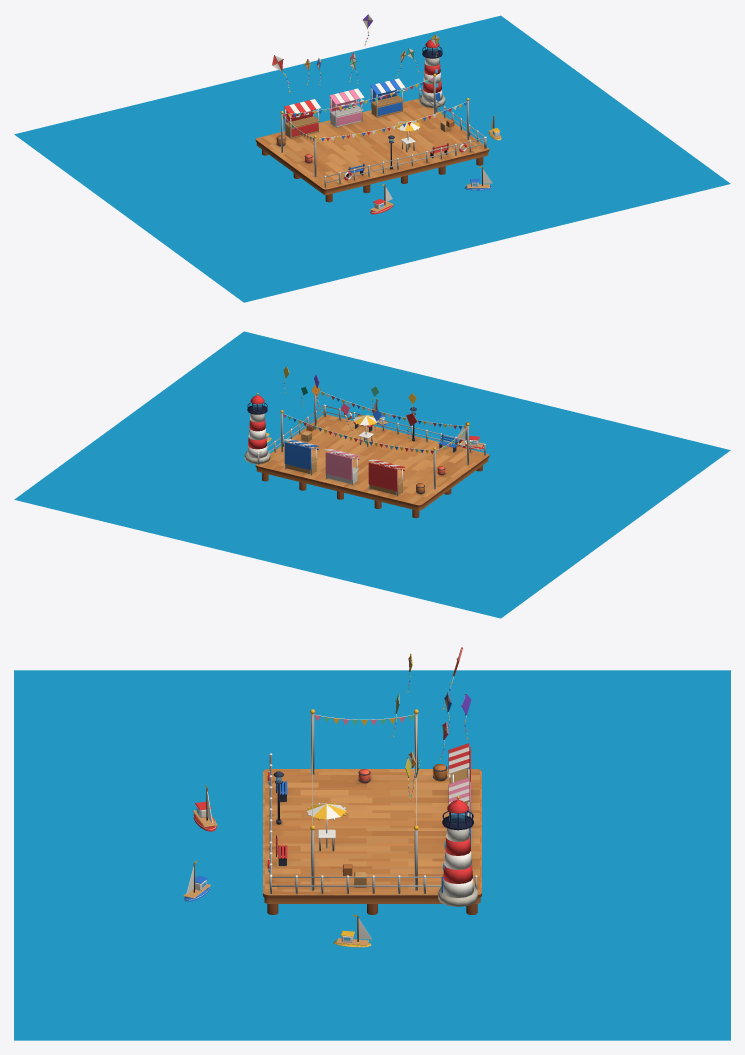
File: pier.glb
The picture shows the model from 3 angles, top to bottom: view 1: azimuth 30°, elevation 25°; view 2: azimuth 150°, elevation 25°; view 3: azimuth 270°, elevation 25°; orthographic projection. The views are drawn at different scales.
Parts seen in each view (by area): view 1: pier_Water, pier_Satin, pier_Gloss, pier_Matte; view 2: pier_Water, pier_Satin, pier_Gloss, pier_Matte; view 3: pier_Water, pier_Satin, pier_Gloss, pier_Matte.
Boxes of the visible parts, box(x1,y1,x2,y2) form: pier_Water: box(14, 15, 730, 302); pier_Satin: box(256, 47, 488, 202); pier_Gloss: box(280, 39, 484, 182); pier_Matte: box(255, 98, 489, 191); pier_Water: box(14, 331, 730, 618); pier_Satin: box(244, 391, 488, 518); pier_Gloss: box(247, 394, 483, 489); pier_Matte: box(255, 414, 489, 507); pier_Water: box(14, 670, 730, 1040); pier_Satin: box(264, 714, 480, 914); pier_Gloss: box(267, 709, 474, 897); pier_Matte: box(263, 769, 481, 898).
Bounding box in the file's own units: 44 × 11.95 × 36.
